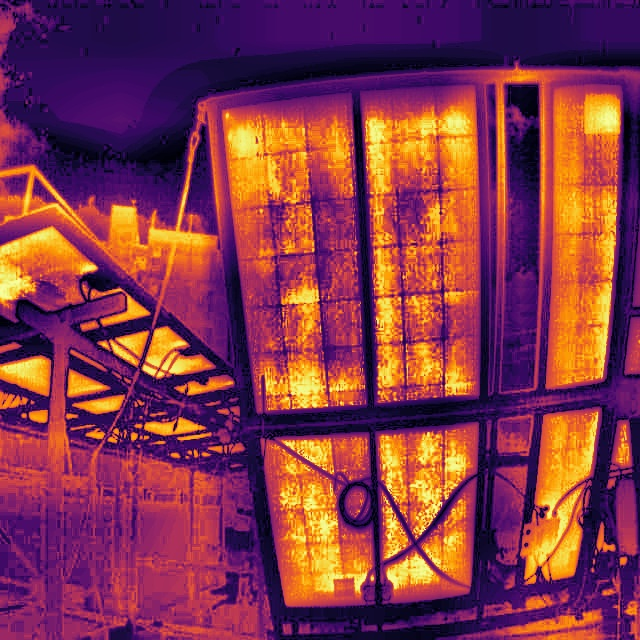Hotspot: (585, 88, 621, 132)
Moderate: (585, 88, 620, 132)
healthy_panel: (224, 96, 366, 411), (361, 86, 480, 402), (546, 84, 620, 386), (263, 435, 374, 606), (376, 424, 477, 602), (535, 409, 600, 506), (552, 532, 580, 575), (549, 502, 572, 526)
